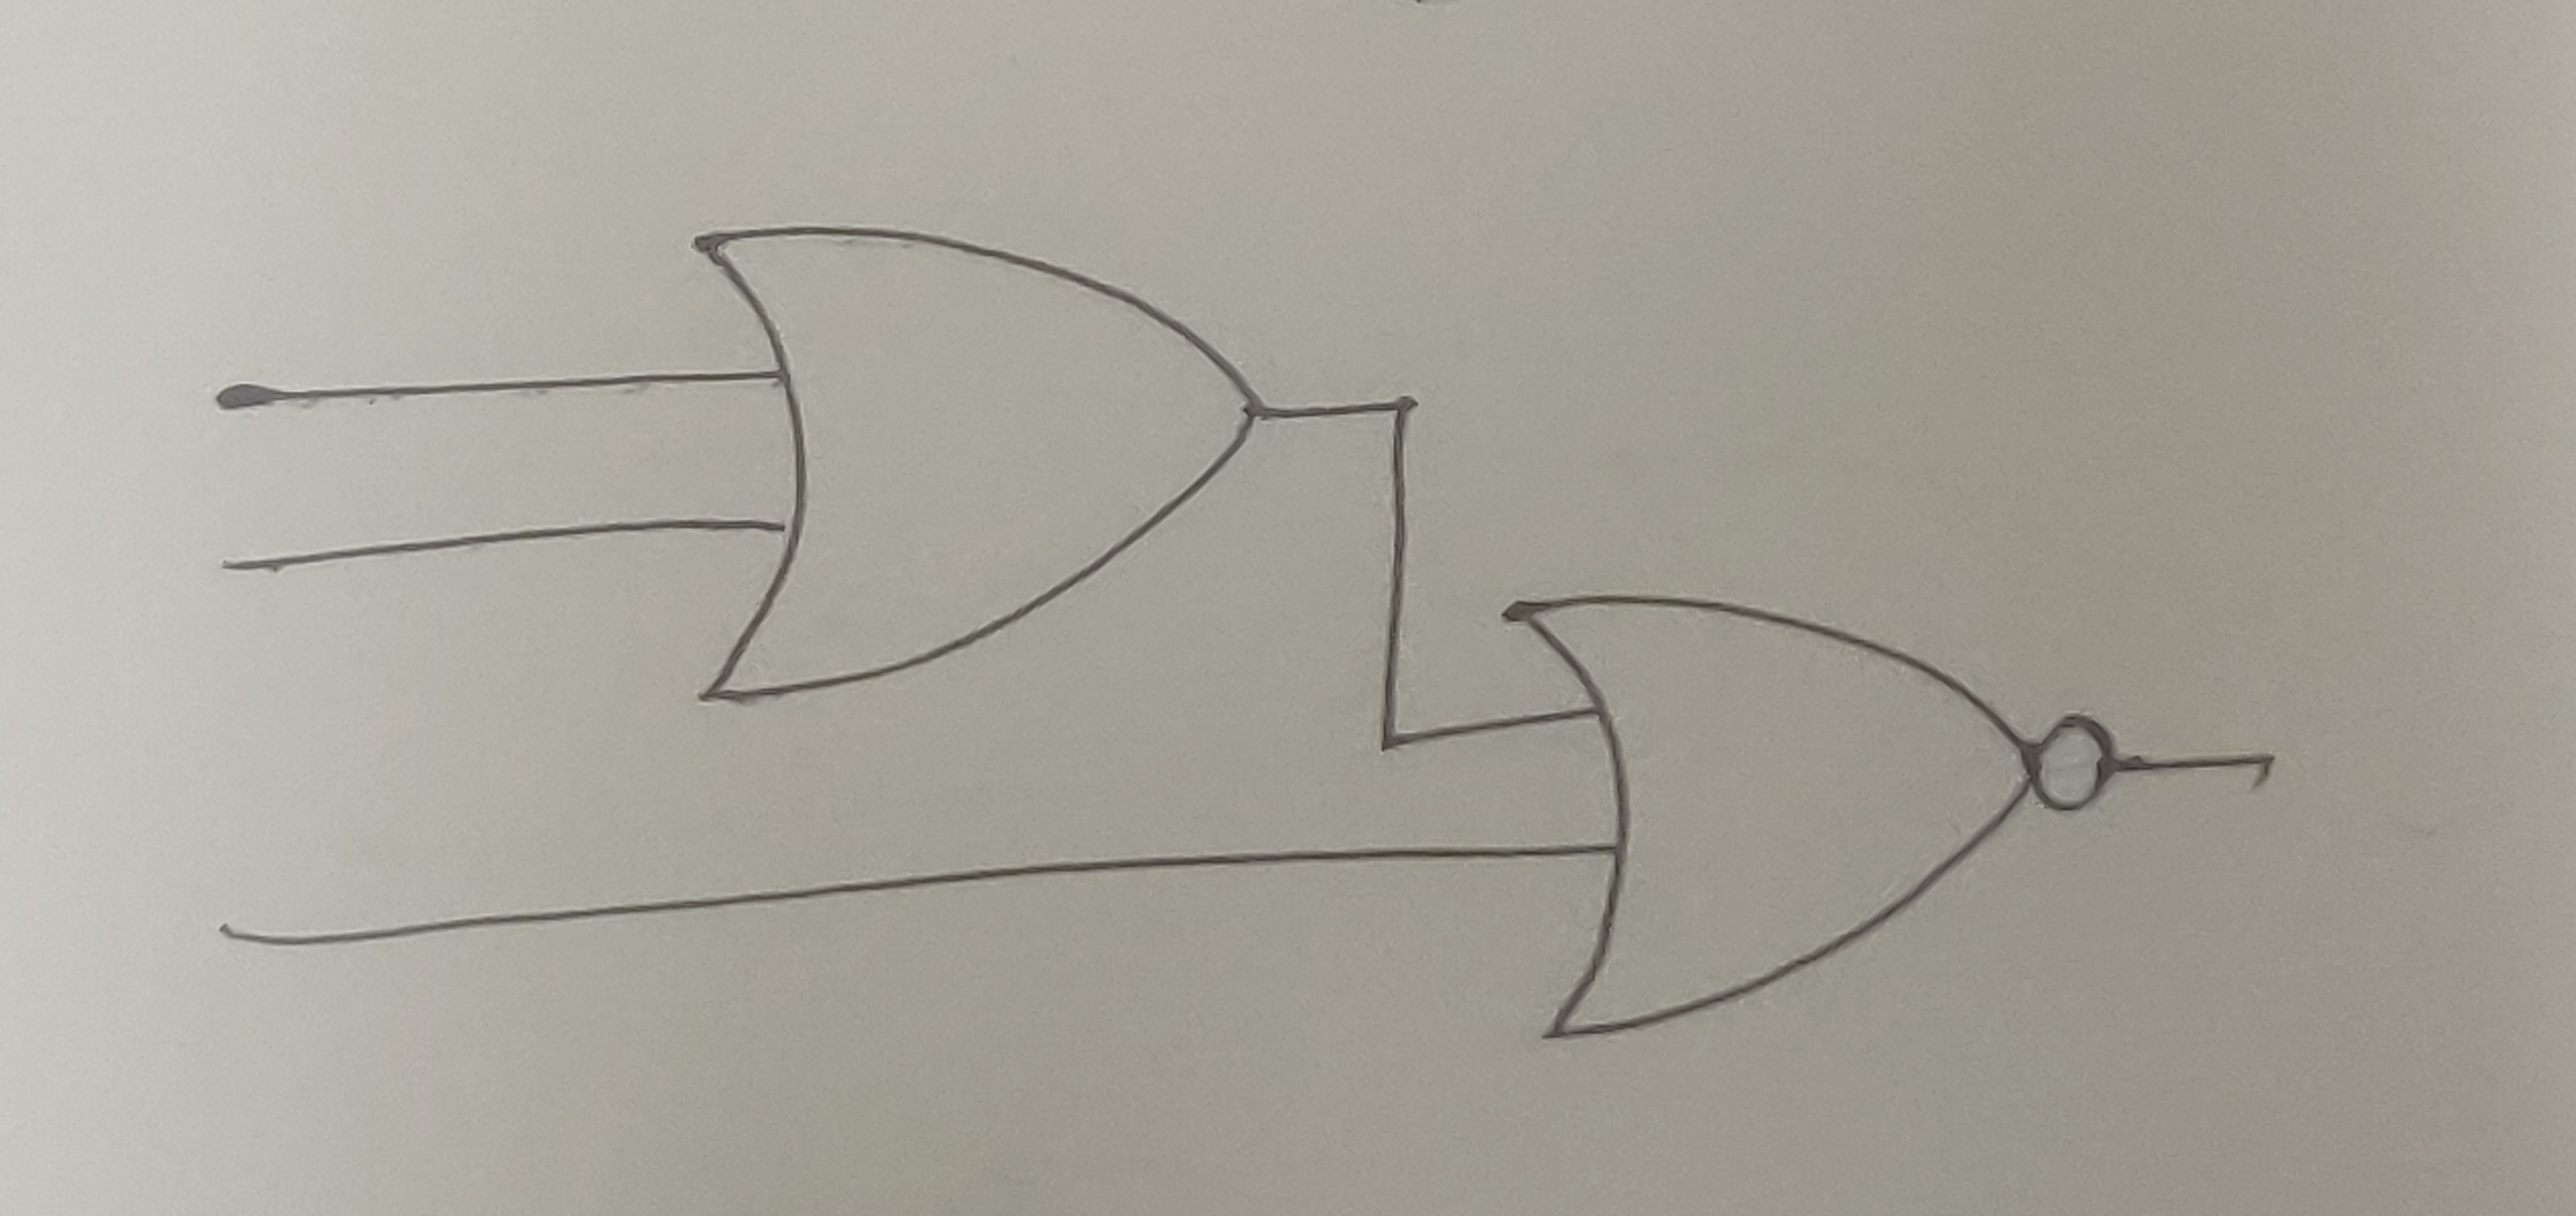not: (2027, 710, 2119, 822)
or: (697, 217, 1258, 707), (1498, 595, 2040, 1048)
